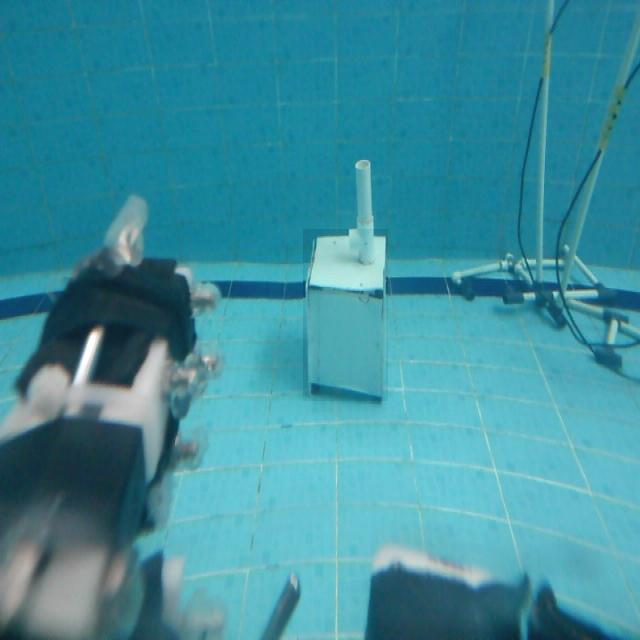Cube: (303, 230, 388, 402)
